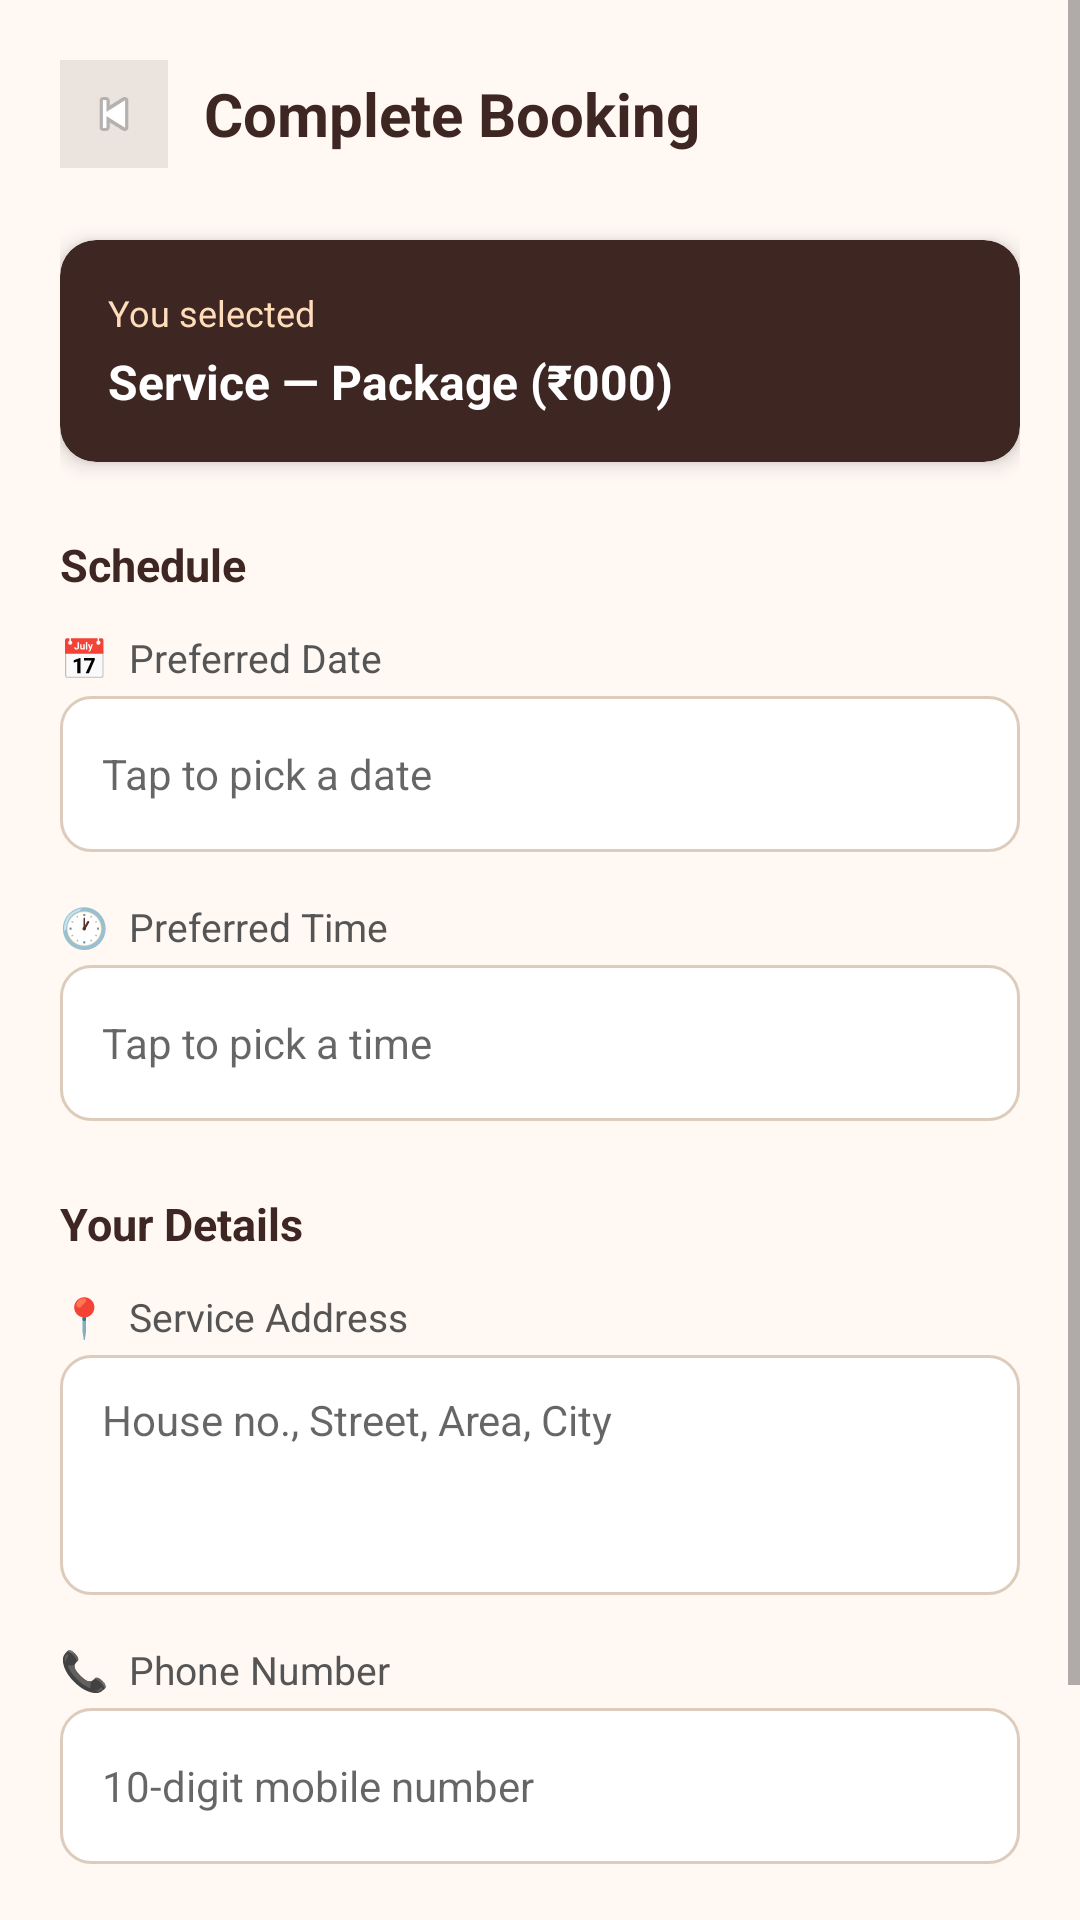

Named icons in this screenshot (1080 × 1920) and their centers, (x=x, y=y):
previous: (x=114, y=114)
